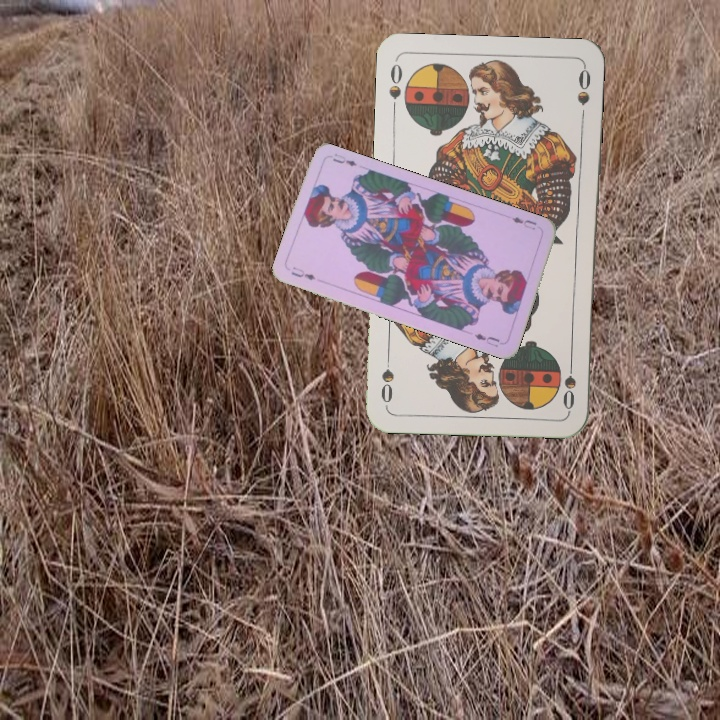EU: (508, 213, 540, 233), (287, 263, 318, 283)
SO: (559, 353, 579, 412), (385, 60, 405, 117)
